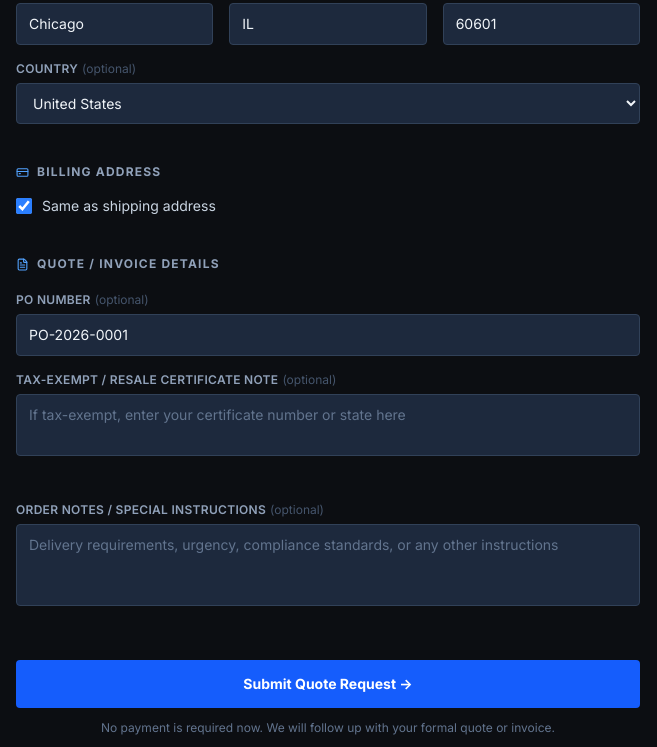
Test: CheckoutGuest › preserves unknown submit errors so genuinely useful messages are not hidden
(page scrolled)
Click the button "Submit Quote Request ->": (328, 684) [16, 660, 640, 708]
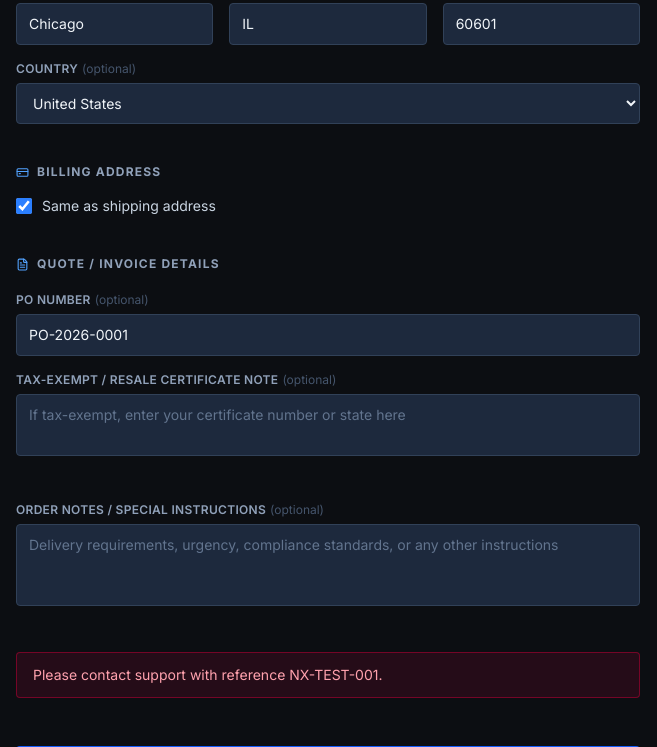
Check: the text "Please contact support with reference NX-TEST-001." is shown, box [16, 652, 640, 698]
